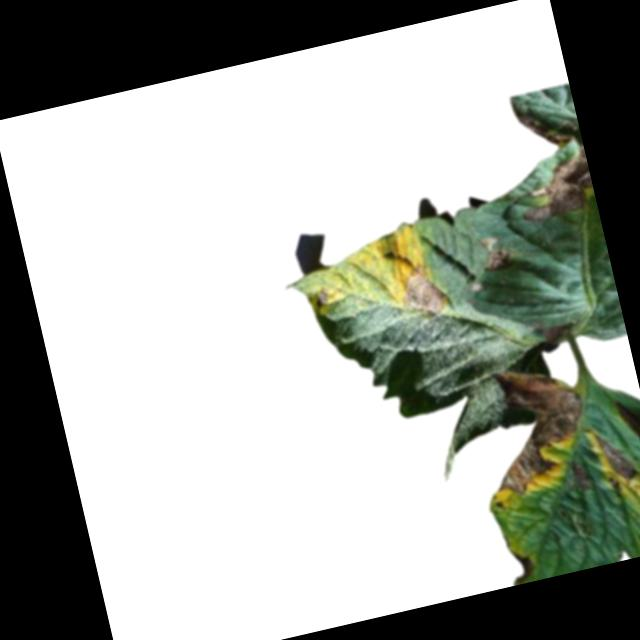Early_blight: (471, 351, 601, 504), (501, 100, 598, 227), (393, 258, 451, 323), (592, 422, 640, 486), (479, 234, 513, 273), (505, 547, 537, 586), (309, 284, 333, 311)
